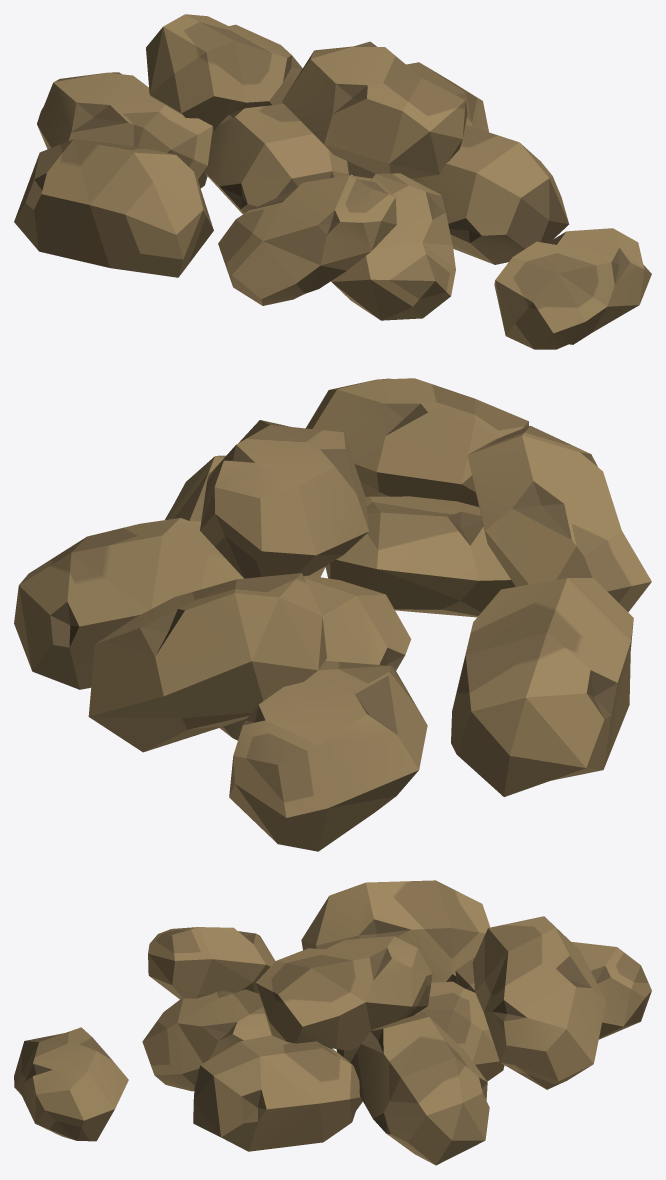
File: SM_Prop_Potatoes_01.fbx
3 renders of one model, top to bottom at view 1: azimuth 30°, elevation 25°; view 2: azimuth 150°, elevation 25°; view 3: azimuth 270°, elevation 25°, orthographic. The views are drawn at different scales.
Parts seen in each view (by area): view 1: SM_Prop_Potatoes_01; view 2: SM_Prop_Potatoes_01; view 3: SM_Prop_Potatoes_01.
Boxes of the visible parts, x1=… form: SM_Prop_Potatoes_01: x1=14, y1=14, x2=651, y2=349; SM_Prop_Potatoes_01: x1=14, y1=378, x2=651, y2=851; SM_Prop_Potatoes_01: x1=14, y1=880, x2=651, y2=1165.
Bounding box in the file's own units: 47.14 × 17.48 × 62.5.
